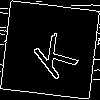K: (25, 25, 79, 82)
